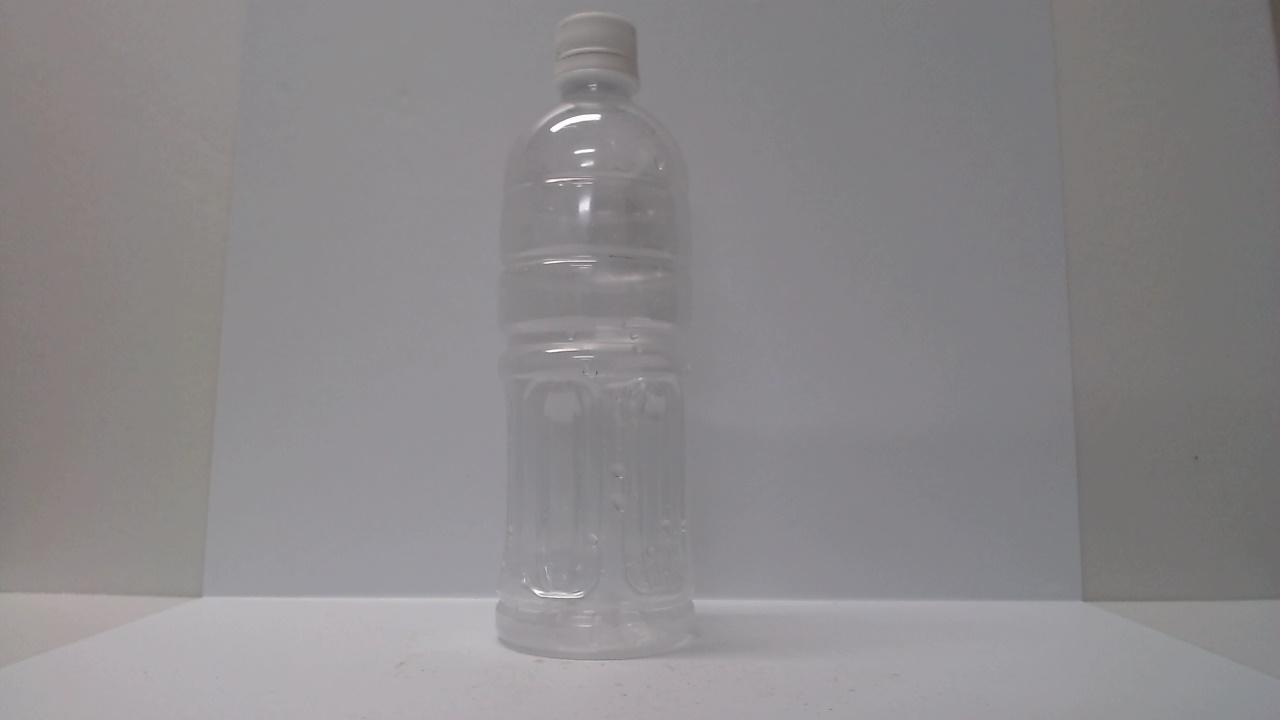bottle: (494, 6, 707, 674)
